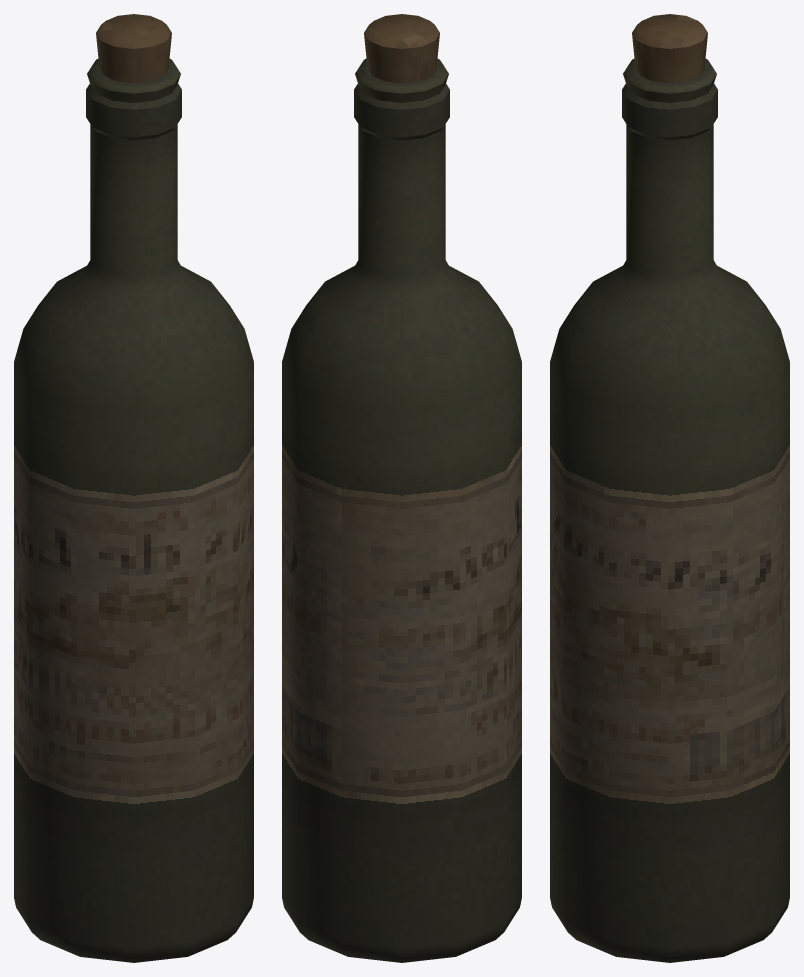
Rendered from glass_bottle_mx_3.glb.
The picture shows the model from 3 angles, left to right: view 1: azimuth 30°, elevation 25°; view 2: azimuth 150°, elevation 25°; view 3: azimuth 270°, elevation 25°; orthographic projection.
Visible parts, largest first — view 1: glass_bottle_mx_3; view 2: glass_bottle_mx_3; view 3: glass_bottle_mx_3.
Boxes of the visible parts, box(x1,y1,x2,y2) form: glass_bottle_mx_3: box(14, 14, 253, 962); glass_bottle_mx_3: box(282, 14, 521, 962); glass_bottle_mx_3: box(550, 14, 789, 962).
Size of the model in its own units: 0.1198 by 0.49 by 0.1198.
1 material, 1 textured.
